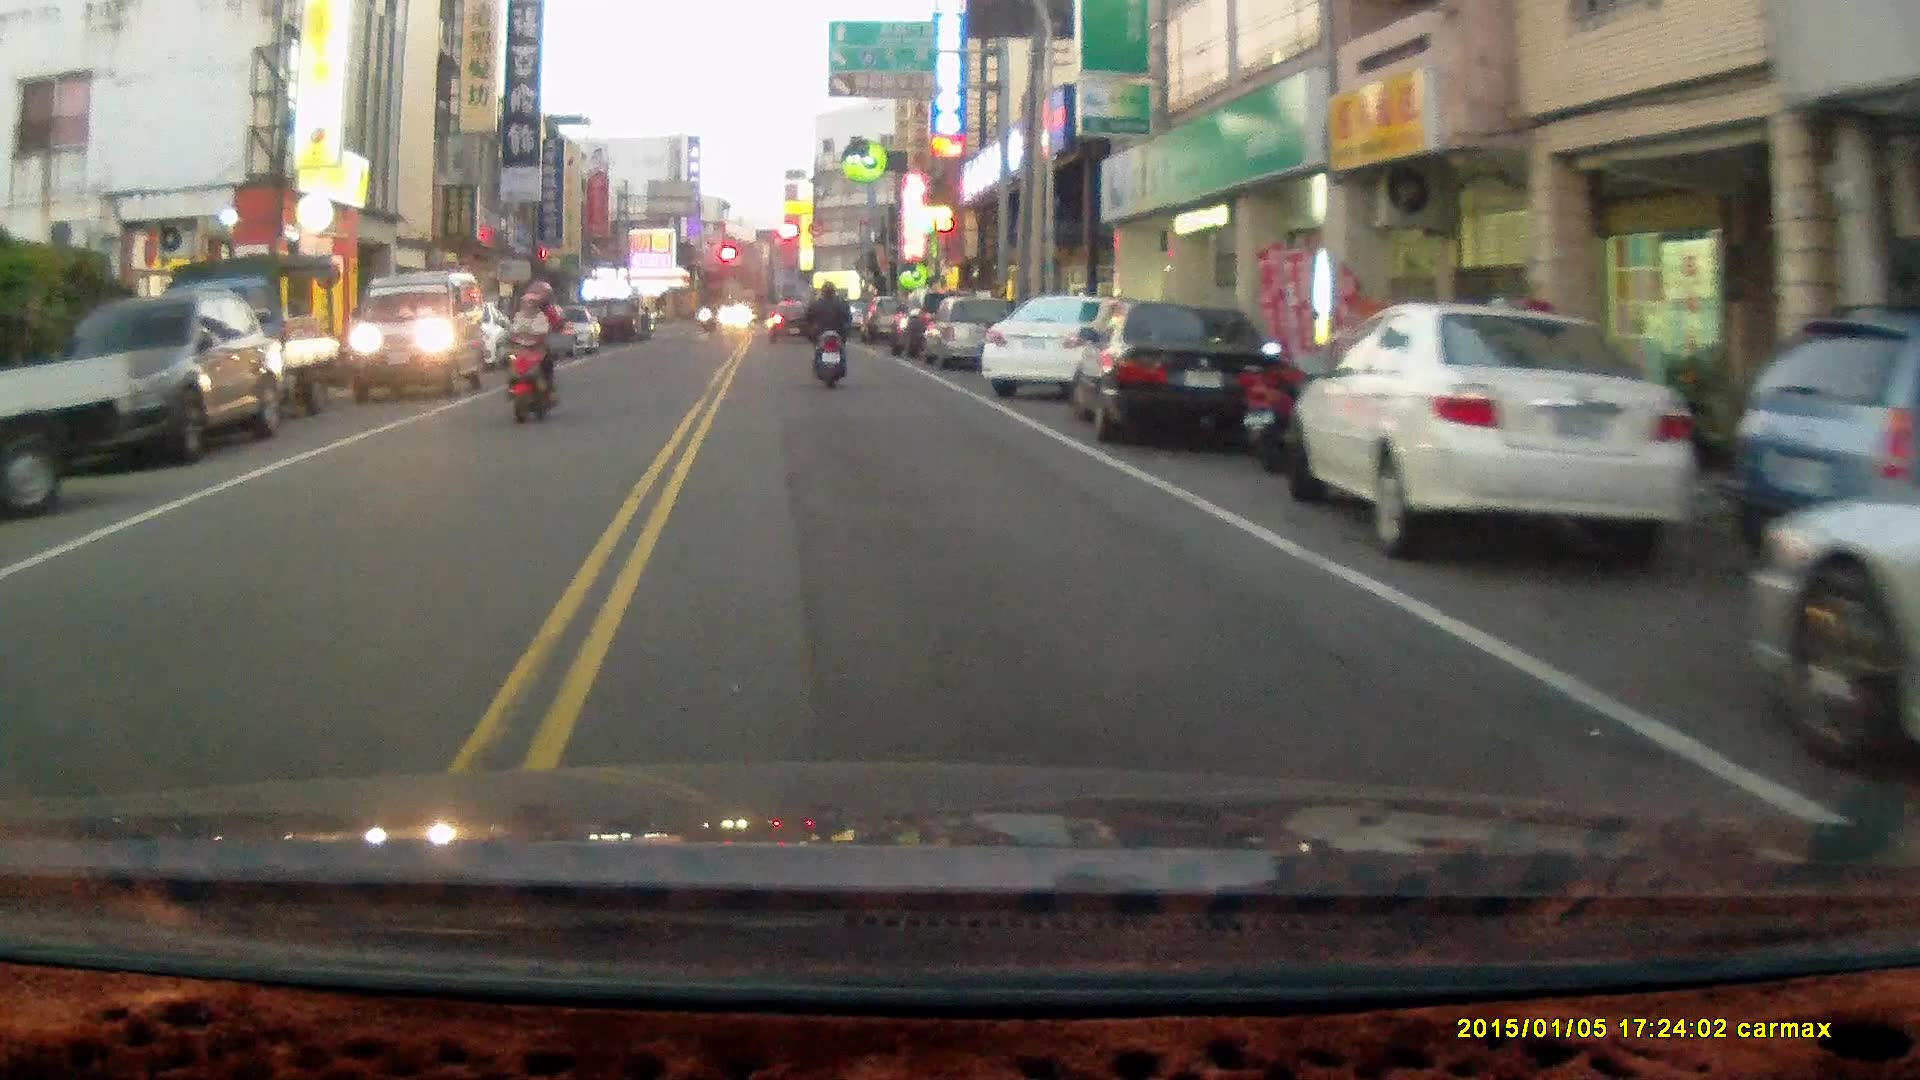rider: (502, 276, 561, 425), (804, 279, 850, 394)
vehicle: (1269, 303, 1700, 560), (1755, 450, 1920, 783), (34, 292, 271, 482), (141, 251, 345, 431), (1067, 301, 1276, 455), (977, 292, 1158, 400), (345, 272, 487, 404), (920, 294, 1018, 372)
